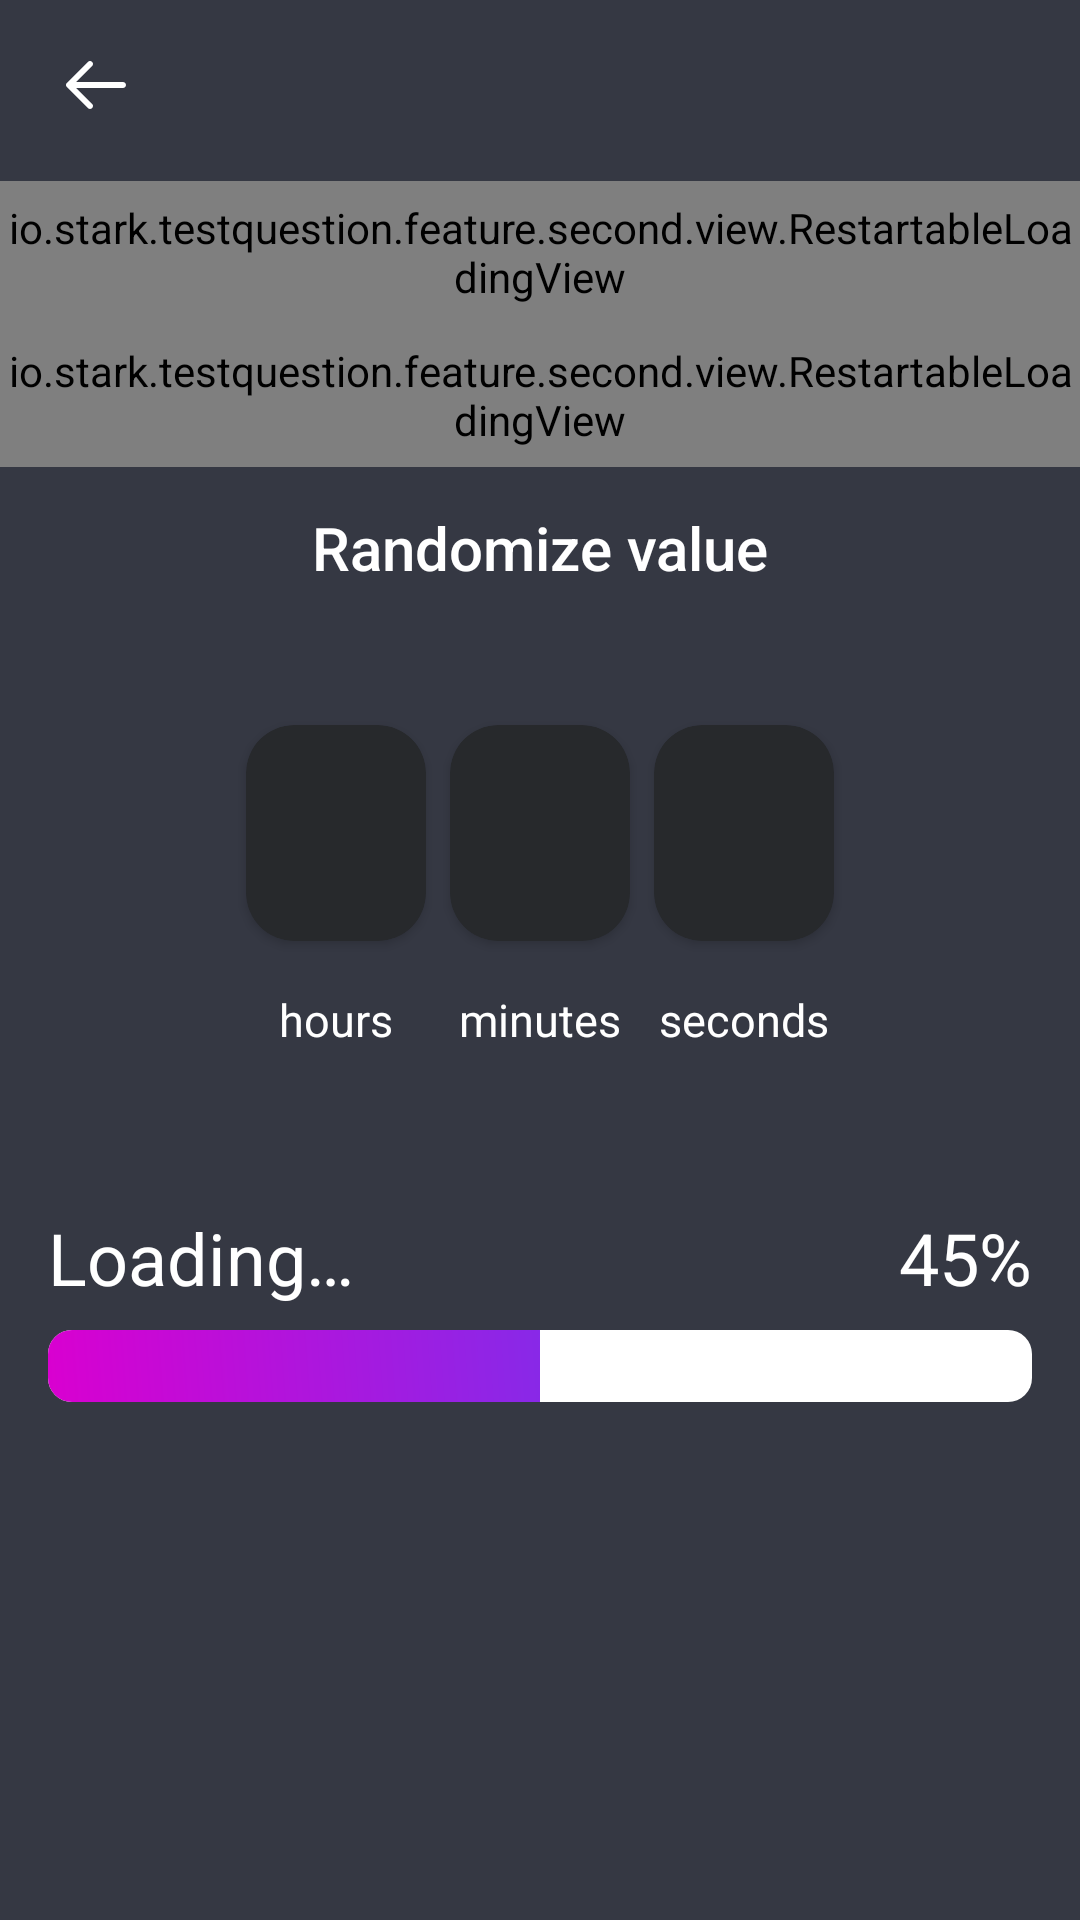

Icon click points for this 1080×1920 phone screenshot, format (x=x, y=y):
back: (x=96, y=85)
